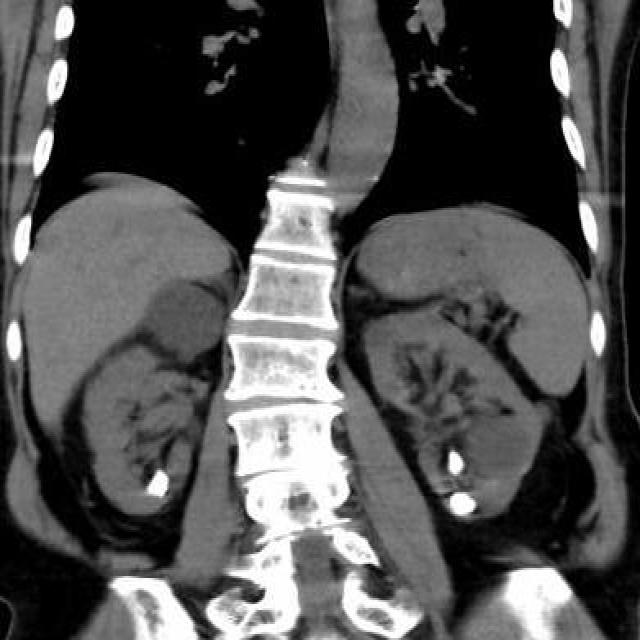Tas_Var: (445, 485, 480, 519), (146, 464, 173, 504), (444, 442, 466, 480)
